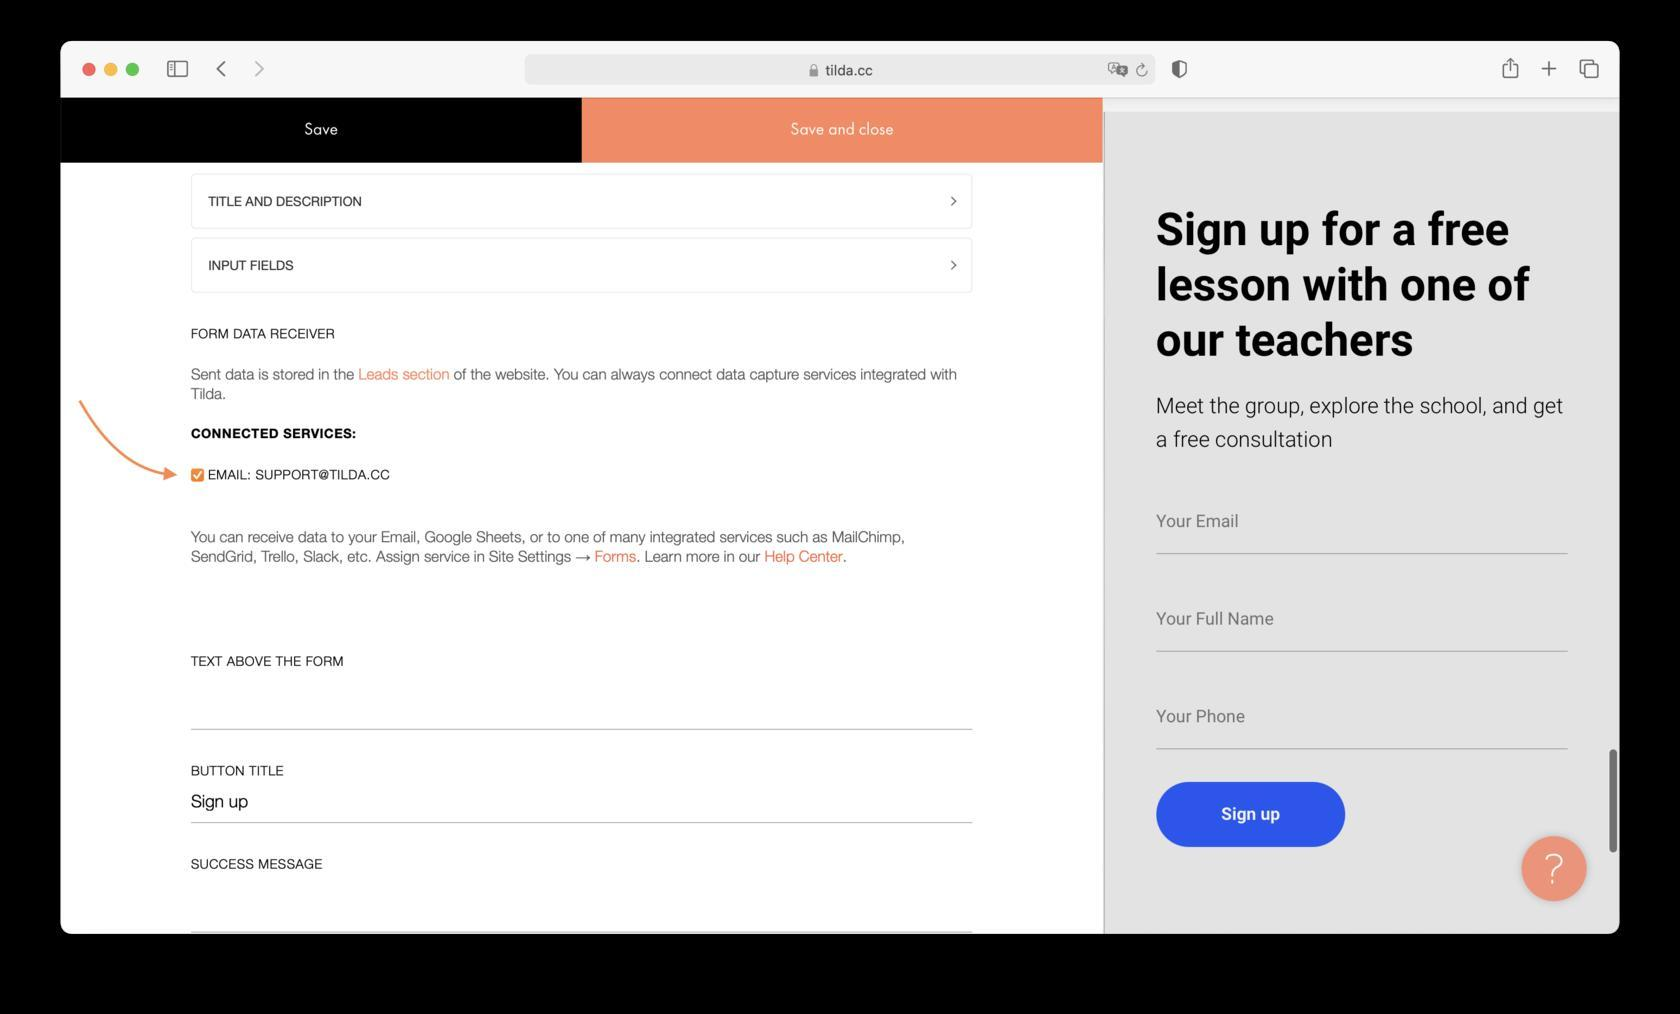button: (1153, 780, 1345, 850)
checkbox: (191, 468, 206, 484)
label: (1153, 206, 1534, 362), (1156, 396, 1568, 452), (188, 650, 347, 671), (208, 467, 392, 482), (187, 857, 325, 875), (191, 763, 287, 779)
